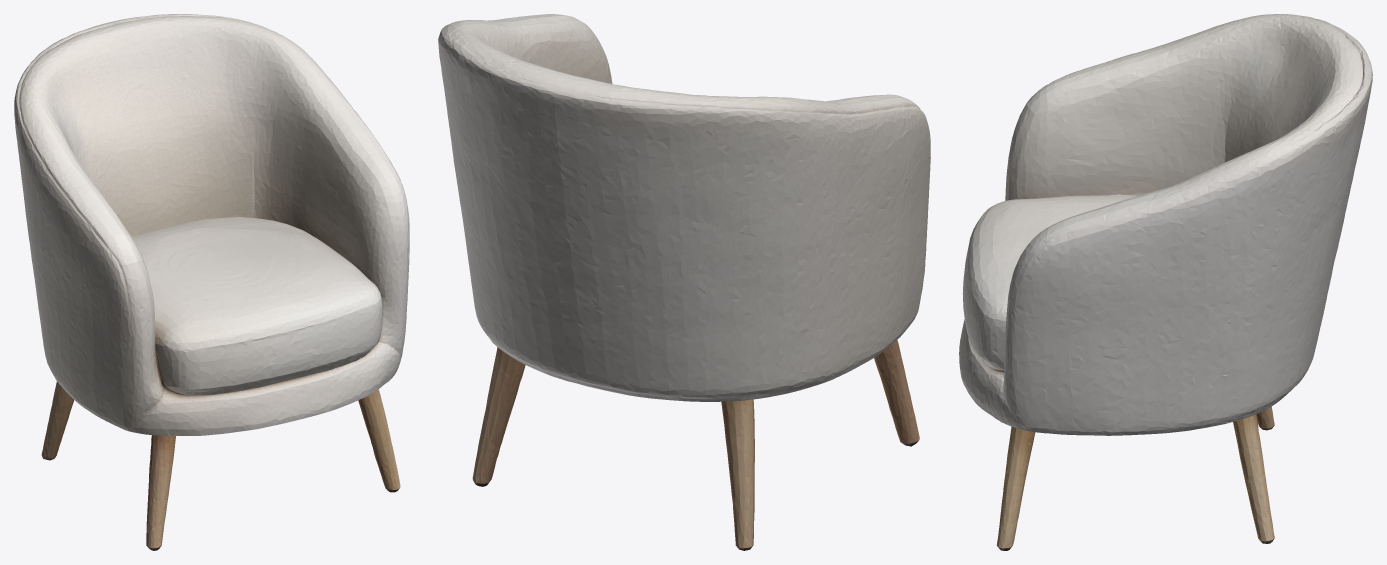
3 views of the same model, side by side, from view 1: azimuth 30°, elevation 25°; view 2: azimuth 150°, elevation 25°; view 3: azimuth 270°, elevation 25° (orthographic). The views are drawn at different scales.
Parts seen in each view (by area): view 1: world; view 2: world; view 3: world.
Part boxes in pixels (x1,y1,x2,y2): world: [14, 14, 409, 550]; world: [438, 14, 930, 550]; world: [959, 14, 1372, 550].
Bounding box in the file's own units: 0.8537 × 1 × 0.8968.
Materials: 1 (1 with a texture image).
